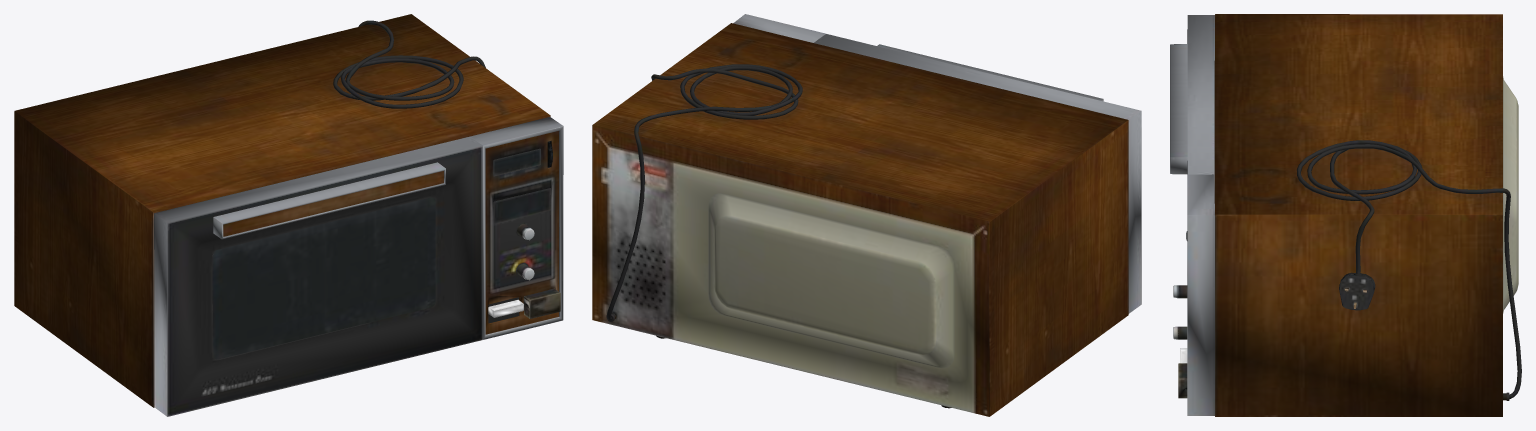
Rendered from vintage_microwave.glb.
3 views of the same model, side by side, from view 1: azimuth 30°, elevation 25°; view 2: azimuth 150°, elevation 25°; view 3: azimuth 270°, elevation 25° (orthographic). The views are drawn at different scales.
Parts seen in each view (by area): view 1: vintage_microwave; view 2: vintage_microwave; view 3: vintage_microwave.
Boxes of the visible parts, x1,y1,x2,y2 form: vintage_microwave: (14, 14, 563, 416); vintage_microwave: (592, 14, 1141, 416); vintage_microwave: (1170, 14, 1521, 416).
Size of the model in its own units: 1.07 by 0.5258 by 0.7456.
2 materials, 2 textured.
